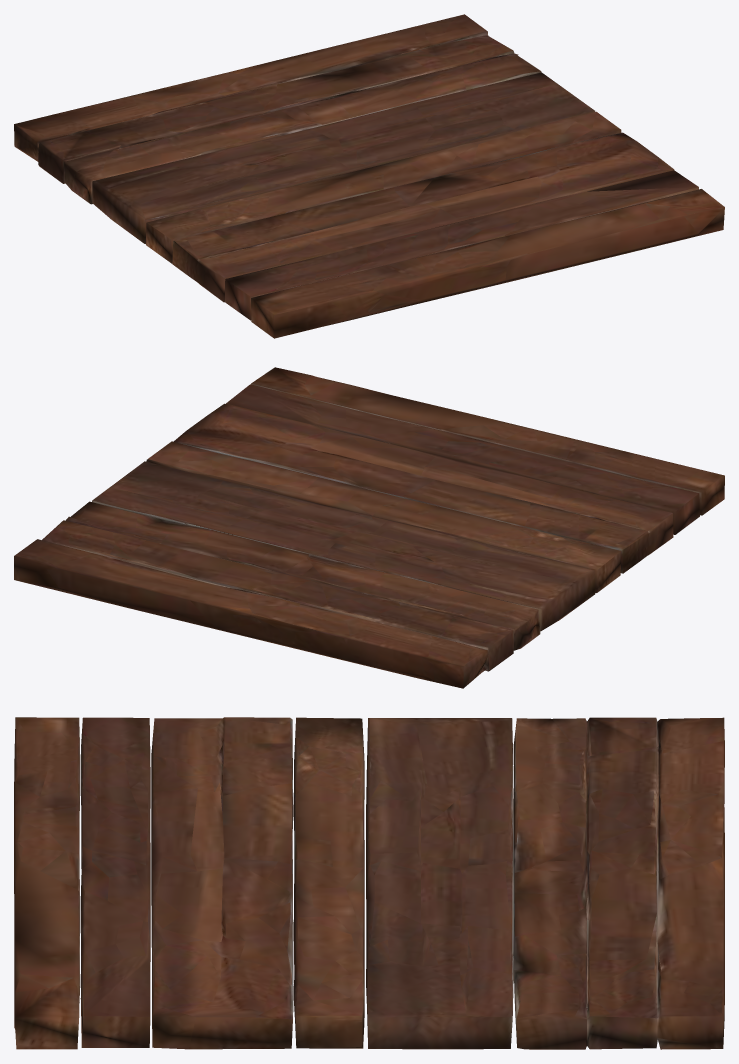
Rendered from 木地板面板第二版.glb.
The picture shows the model from 3 angles, top to bottom: view 1: azimuth 30°, elevation 25°; view 2: azimuth 150°, elevation 25°; view 3: azimuth 270°, elevation 25°; orthographic projection. The views are drawn at different scales.
Visible parts, largest first — view 1: tripo_node_73efee75-07a1-43b4-8a31-0b0834ca0b3c; view 2: tripo_node_73efee75-07a1-43b4-8a31-0b0834ca0b3c; view 3: tripo_node_73efee75-07a1-43b4-8a31-0b0834ca0b3c.
Part boxes in pixels (left/top/right/bottom): tripo_node_73efee75-07a1-43b4-8a31-0b0834ca0b3c: left=14, top=14, right=724, bottom=338; tripo_node_73efee75-07a1-43b4-8a31-0b0834ca0b3c: left=14, top=367, right=724, bottom=688; tripo_node_73efee75-07a1-43b4-8a31-0b0834ca0b3c: left=14, top=717, right=724, bottom=1049.
Bounding box in the file's own units: 0.9979 × 0.0546 × 0.9991.
1 material, 1 textured.
